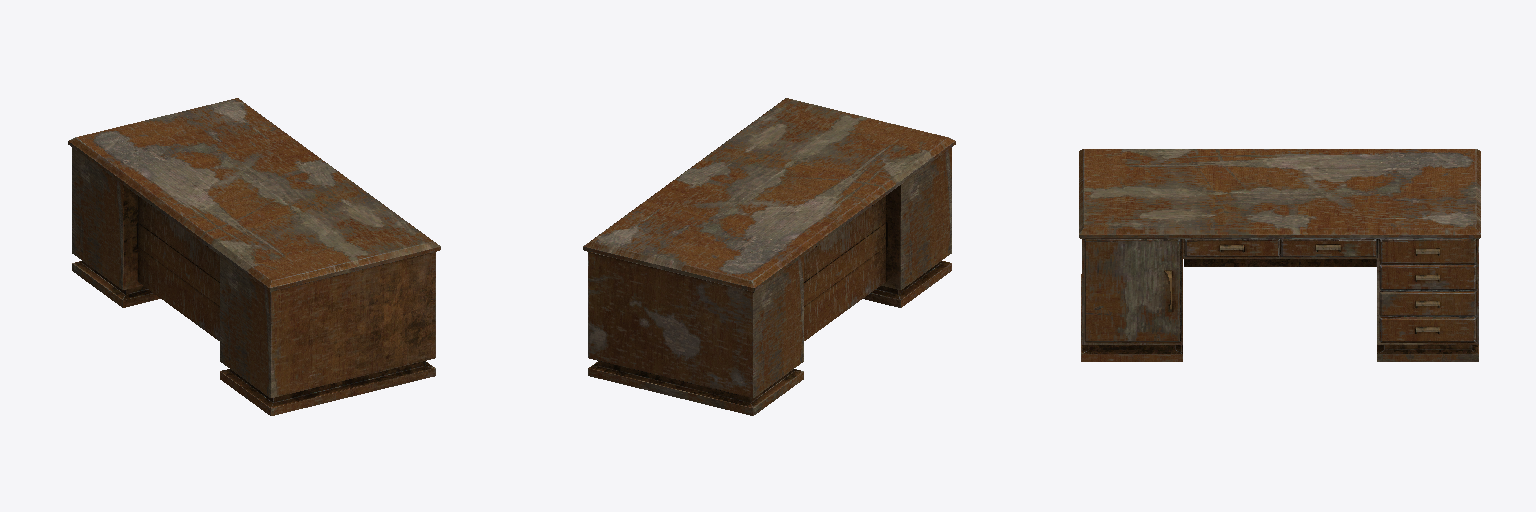
The picture shows the model from 3 angles: view 1: azimuth 30°, elevation 25°; view 2: azimuth 150°, elevation 25°; view 3: azimuth 270°, elevation 25°; orthographic projection.
Visible parts, largest first — view 1: Desk; view 2: Desk; view 3: Desk.
Part boxes in pixels (x1,y1,x2,y2): Desk: (68, 98, 440, 415); Desk: (583, 98, 955, 415); Desk: (1079, 149, 1480, 361).
Bounding box in the file's own units: 1.54 × 1.13 × 3.08.
Materials: 1 (1 with a texture image).